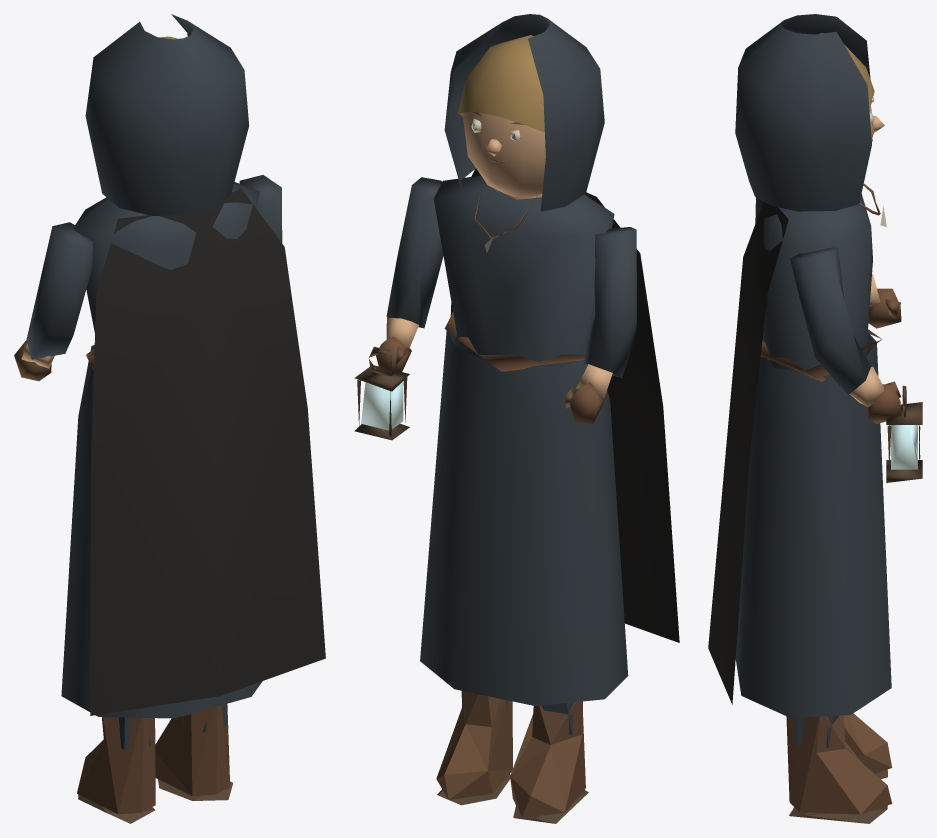
Rendered from SM_NPC_ESTRELLA_FUGAZ_BAJA.glb.
The picture shows the model from 3 angles, left to right: view 1: azimuth 30°, elevation 25°; view 2: azimuth 150°, elevation 25°; view 3: azimuth 270°, elevation 25°; orthographic projection. The views are drawn at different scales.
Parts seen in each view (by area): view 1: SM_NPC_ESTRELLA_FUGAZ_BODY, SM_NPC_ESTRELLA_FUGAZ_HEAD, SM_NPC_ESTRELLA_FUGAZ_ARMS; view 2: SM_NPC_ESTRELLA_FUGAZ_BODY, SM_NPC_ESTRELLA_FUGAZ_HEAD, SM_NPC_ESTRELLA_FUGAZ_ARMS; view 3: SM_NPC_ESTRELLA_FUGAZ_BODY, SM_NPC_ESTRELLA_FUGAZ_HEAD, SM_NPC_ESTRELLA_FUGAZ_ARMS.
Boxes of the visible parts, <box> form: SM_NPC_ESTRELLA_FUGAZ_BODY: <box>61,182,325,823</box>; SM_NPC_ESTRELLA_FUGAZ_HEAD: <box>85,14,249,215</box>; SM_NPC_ESTRELLA_FUGAZ_ARMS: <box>14,175,282,381</box>; SM_NPC_ESTRELLA_FUGAZ_BODY: <box>420,168,679,823</box>; SM_NPC_ESTRELLA_FUGAZ_HEAD: <box>444,14,604,211</box>; SM_NPC_ESTRELLA_FUGAZ_ARMS: <box>354,177,636,440</box>; SM_NPC_ESTRELLA_FUGAZ_BODY: <box>708,183,892,823</box>; SM_NPC_ESTRELLA_FUGAZ_HEAD: <box>735,14,884,211</box>; SM_NPC_ESTRELLA_FUGAZ_ARMS: <box>790,247,922,482</box>.
Size of the model in its own units: 0.6073 by 1.85 by 0.4662.
